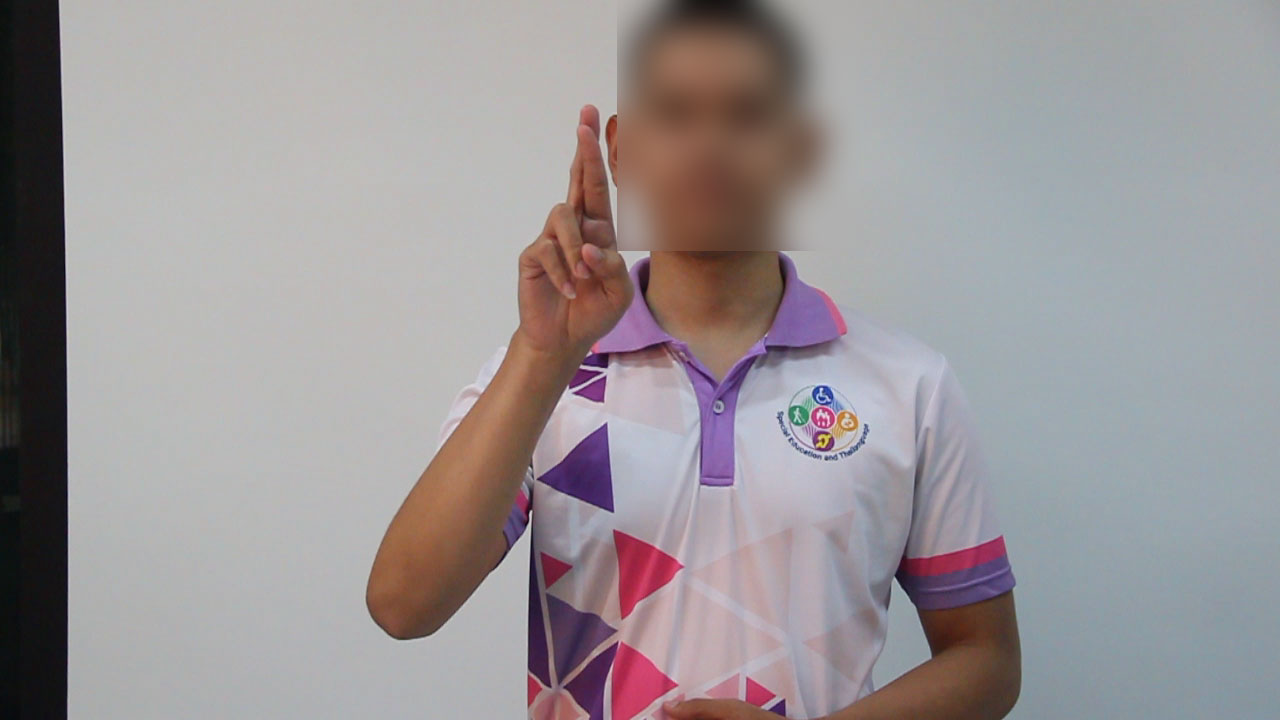rao: (473, 99, 638, 360)
